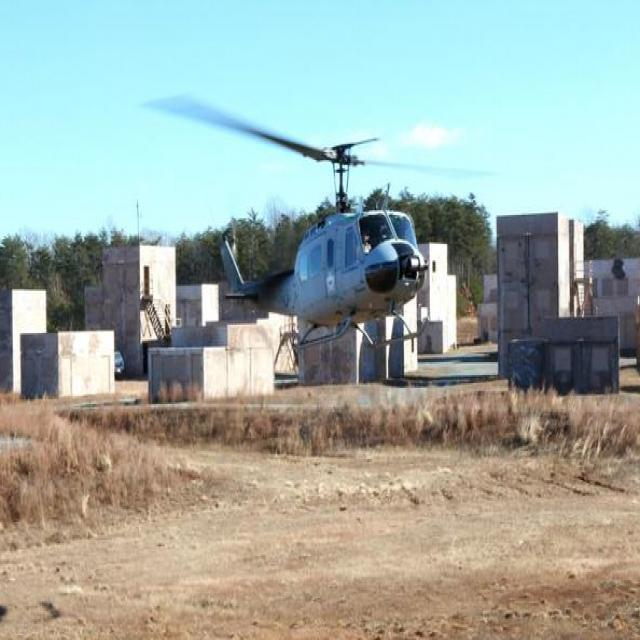helicopter: (158, 97, 446, 357)
